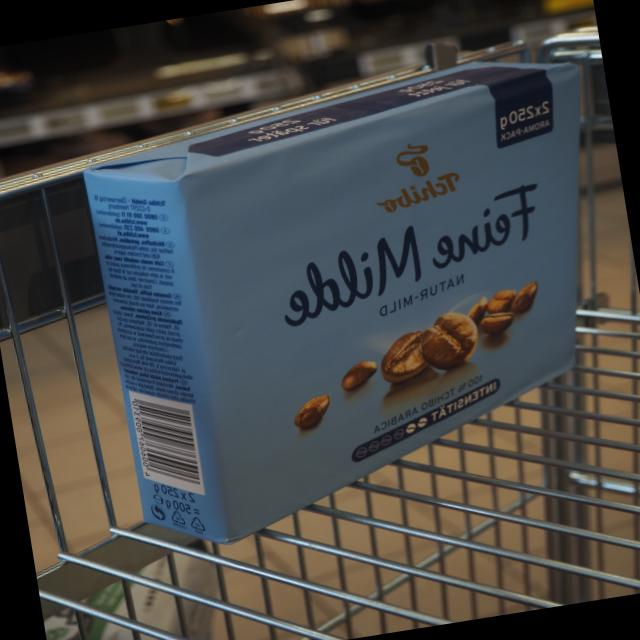FM Gemahlen: (169, 59, 586, 550)
